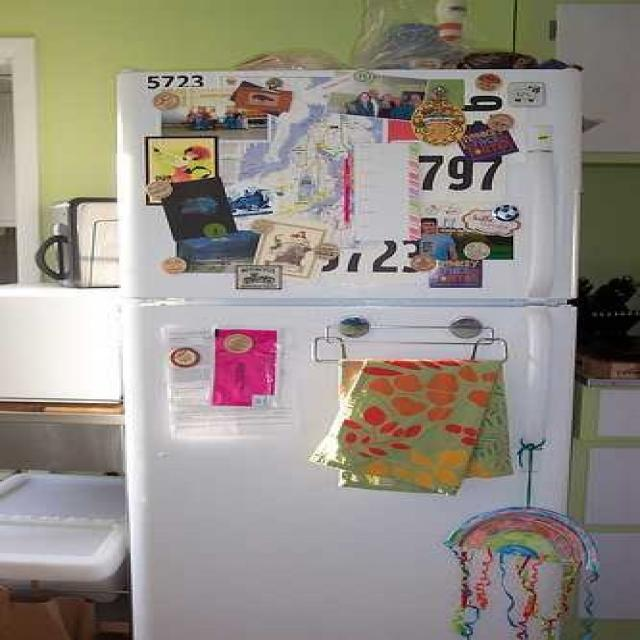refrigerator: (117, 68, 581, 640)
